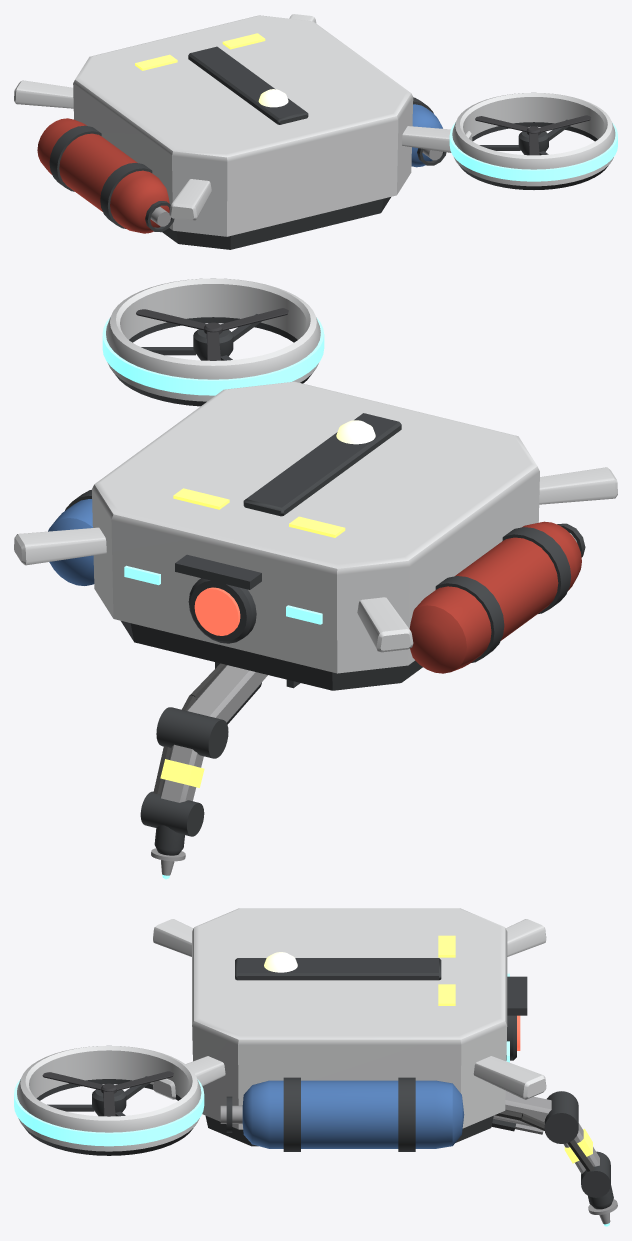
Rendered from mender.glb.
3 views of the same model, one above another, from view 1: azimuth 30°, elevation 25°; view 2: azimuth 150°, elevation 25°; view 3: azimuth 270°, elevation 25° (orthographic). The views are drawn at different scales.
Parts seen in each view (by area): view 1: core, rotor, blades; view 2: core, rotor, arm, eye, blades, torch; view 3: core, rotor, arm, eye, blades, torch.
Part boxes in pixels (bbox=[...]): core: bbox=[14, 14, 472, 249]; rotor: bbox=[449, 92, 617, 189]; blades: bbox=[475, 115, 590, 155]; core: bbox=[14, 381, 617, 690]; rotor: bbox=[102, 278, 324, 406]; arm: bbox=[140, 663, 267, 836]; eye: bbox=[175, 554, 261, 643]; blades: bbox=[136, 308, 288, 360]; torch: bbox=[151, 825, 185, 879]; core: bbox=[153, 908, 546, 1151]; rotor: bbox=[14, 1045, 204, 1155]; arm: bbox=[491, 1091, 610, 1197]; eye: bbox=[506, 976, 527, 1060]; blades: bbox=[42, 1071, 173, 1116]; torch: bbox=[588, 1185, 617, 1226].
Size of what is drawn, in the model's own units: 0.961 by 0.525 by 1.05.
